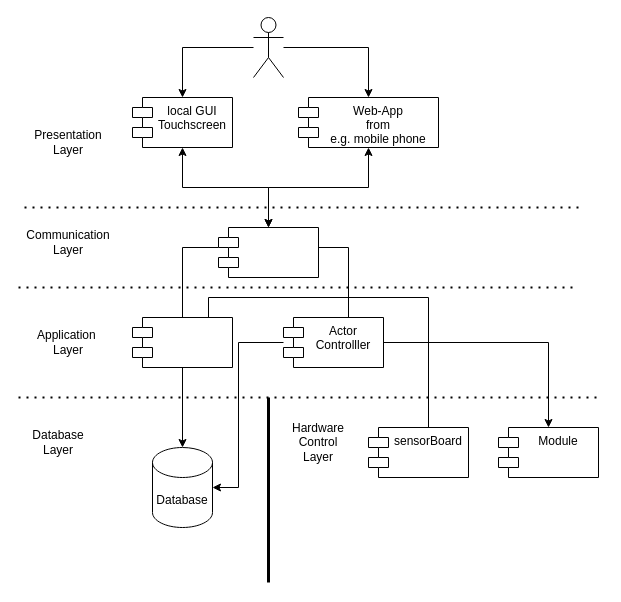
Image size: 621x602. Some labels were removed from this diagram. The shapes that lost their labels are listed below. From the top down, each one's centre as x and y in pixels, then its label:
(268,47): Actor
(268,252): API
(182,342): Sensor Reader
